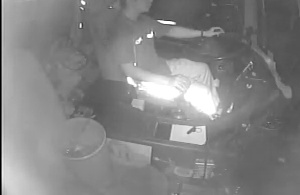paper: (153, 120, 210, 146)
